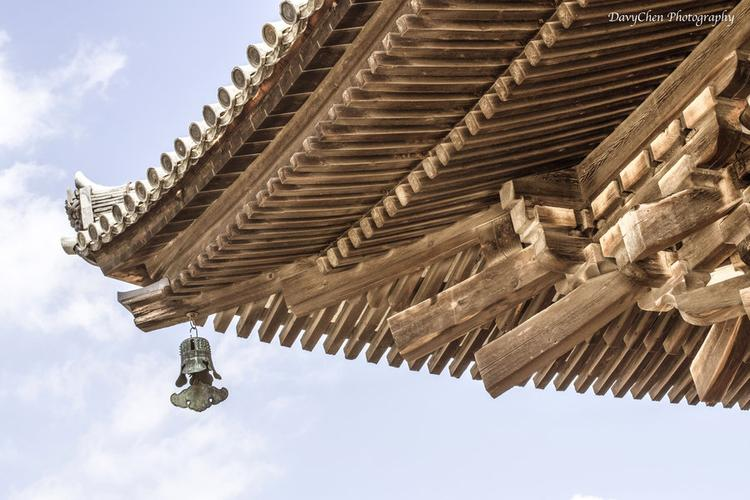buildings: (43, 23, 750, 373)
